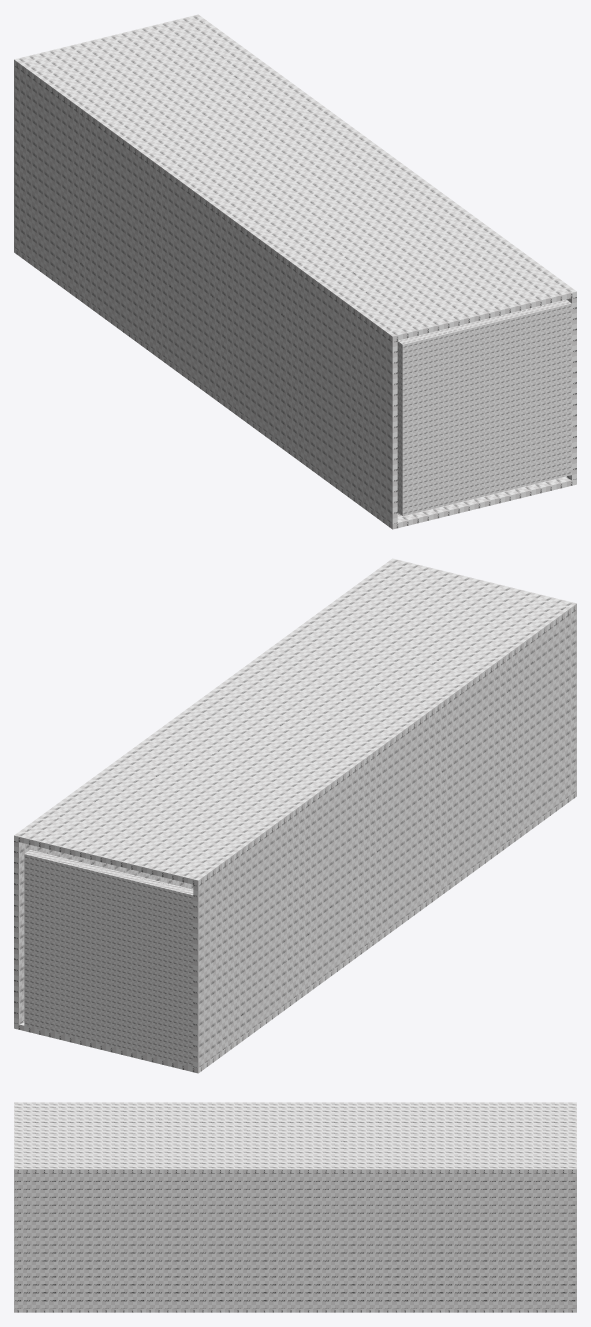
The model's file is teleporter-tunnel.obj.
The picture shows the model from 3 angles, top to bottom: view 1: azimuth 30°, elevation 25°; view 2: azimuth 150°, elevation 25°; view 3: azimuth 270°, elevation 25°; orthographic projection. The views are drawn at different scales.
Parts seen in each view (by area): view 1: entity0_brush4, entity0_brush2, entity0_brush0, entity0_brush5, entity0_brush3; view 2: entity0_brush4, entity0_brush2, entity0_brush1, entity0_brush5, entity0_brush3; view 3: entity0_brush3, entity0_brush4, entity0_brush5.
Boxes of the visible parts, x1,y1,x2,y2 form: entity0_brush4: (14,14,576,341); entity0_brush2: (14,65,397,523); entity0_brush0: (397,299,571,516); entity0_brush5: (14,247,576,529); entity0_brush3: (566,297,576,480); entity0_brush4: (14,558,576,885); entity0_brush2: (193,609,576,1067); entity0_brush1: (24,850,193,1066); entity0_brush5: (14,791,576,1073); entity0_brush3: (14,841,193,1024); entity0_brush3: (14,1173,576,1308); entity0_brush4: (14,1102,576,1173); entity0_brush5: (14,1308,576,1312).
Size of the model in its own units: 288 by 288 by 1024.
